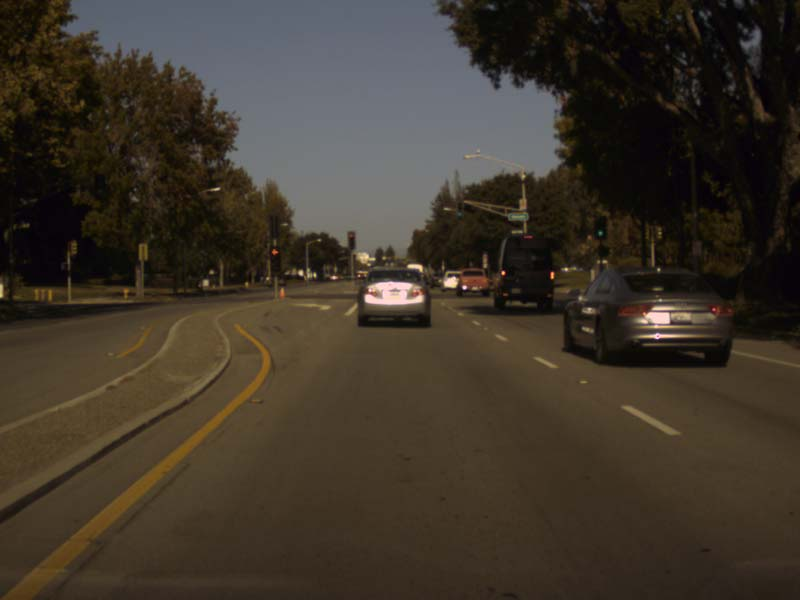Green: (595, 215, 606, 237), (456, 202, 462, 217)
Red: (270, 247, 280, 272), (347, 232, 355, 246)
